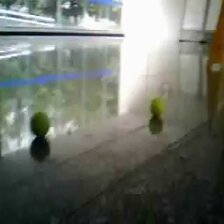tennis: (30, 111, 49, 135), (150, 98, 165, 115)
